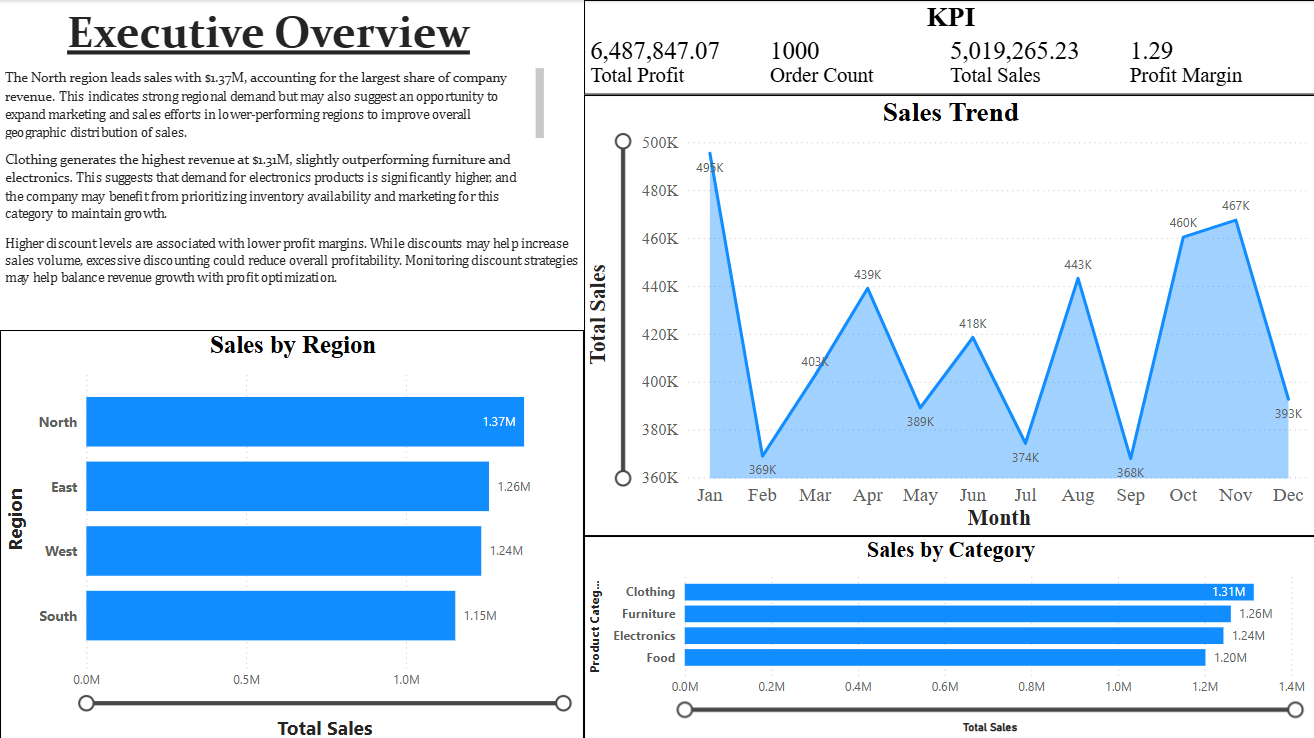

The dashboard page shown, as its layout file describes it:
{"tool":"powerbi","page":{"name":"Page 1","canvas":[1280,720],"ordinal":0},"visuals":[{"type":"textbox","box":[0,0,522.3,122.6],"z":0},{"type":"multiRowCard","title":"KPI","fields":{"Values":["sales_data.Total Profit","Date_Table.Order Count","sales_data.Total Sales","sales_data.Profit Margin1"]},"box":[568,0,712,92.4],"z":1000},{"type":"lineChart","title":"Sales Trend","fields":{"Category":["Date_Table.Month"],"Y":["sales_data.Total Sales"]},"box":[568,92.4,712,428.9],"z":2000},{"type":"barChart","title":"Sales by Category","fields":{"Category":["sales_data.Product_Category"],"Y":["sales_data.Total Sales"]},"box":[568,521.3,712,198.4],"z":3000},{"type":"barChart","title":"Sales by Region","fields":{"Category":["sales_data.Region"],"Y":["sales_data.Total Sales"]},"box":[0,321,568,398.8],"z":4000},{"type":"textbox","box":[0,61.3,534,78.8],"z":5000},{"type":"textbox","box":[0,140.1,522.3,81.7],"z":6000},{"type":"textbox","box":[0,221.8,568,99.2],"z":7000}]}

Visuals, with their boxes in screenshot pixels (x1, y1, x2, y2), scaled from the page's 1280x720 canvas onto the 1314x738 screenshot:
textbox: crop(0, 0, 536, 126)
"KPI" multiRowCard: crop(583, 0, 1313, 95)
"Sales Trend" lineChart: crop(583, 95, 1313, 534)
"Sales by Category" barChart: crop(583, 534, 1313, 737)
"Sales by Region" barChart: crop(0, 329, 583, 737)
textbox: crop(0, 63, 548, 144)
textbox: crop(0, 144, 536, 227)
textbox: crop(0, 227, 583, 329)
